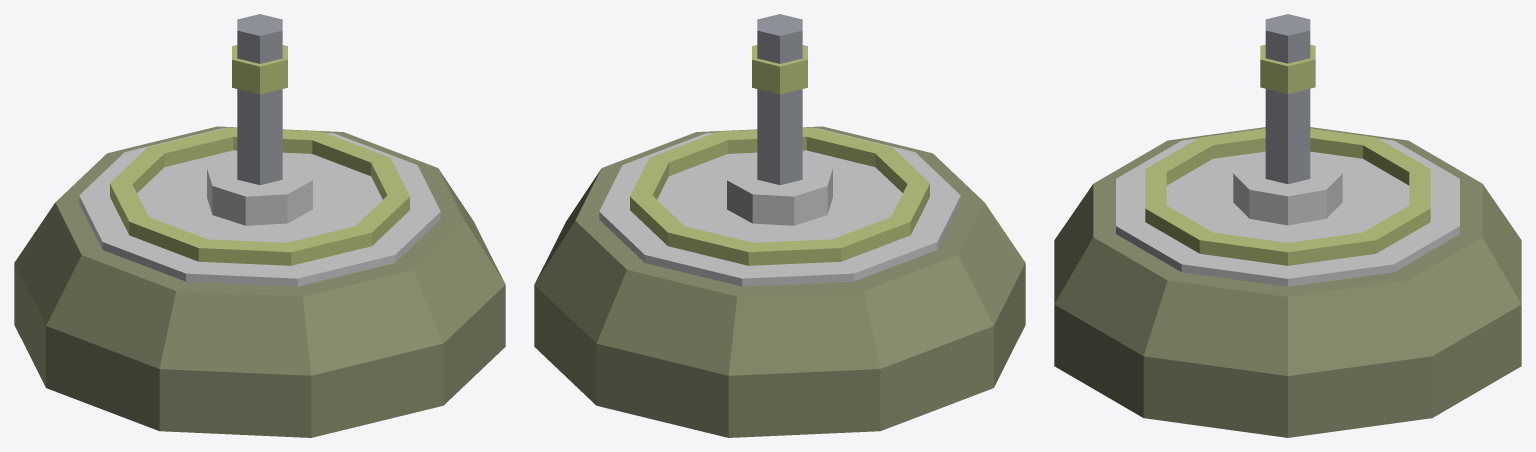
The model's file is ce_mech_ammo_beacon.obj.
3 views of the same model, side by side, from view 1: azimuth 30°, elevation 25°; view 2: azimuth 150°, elevation 25°; view 3: azimuth 270°, elevation 25° (orthographic).
Visible parts, largest first — view 1: drop_beacon; view 2: drop_beacon; view 3: drop_beacon.
Part boxes in pixels (<box>): drop_beacon: <box>14,14,505,437</box>; drop_beacon: <box>534,14,1025,437</box>; drop_beacon: <box>1054,14,1521,437</box>.
Bounding box in the file's own units: 0.72 × 0.5 × 0.6848.
